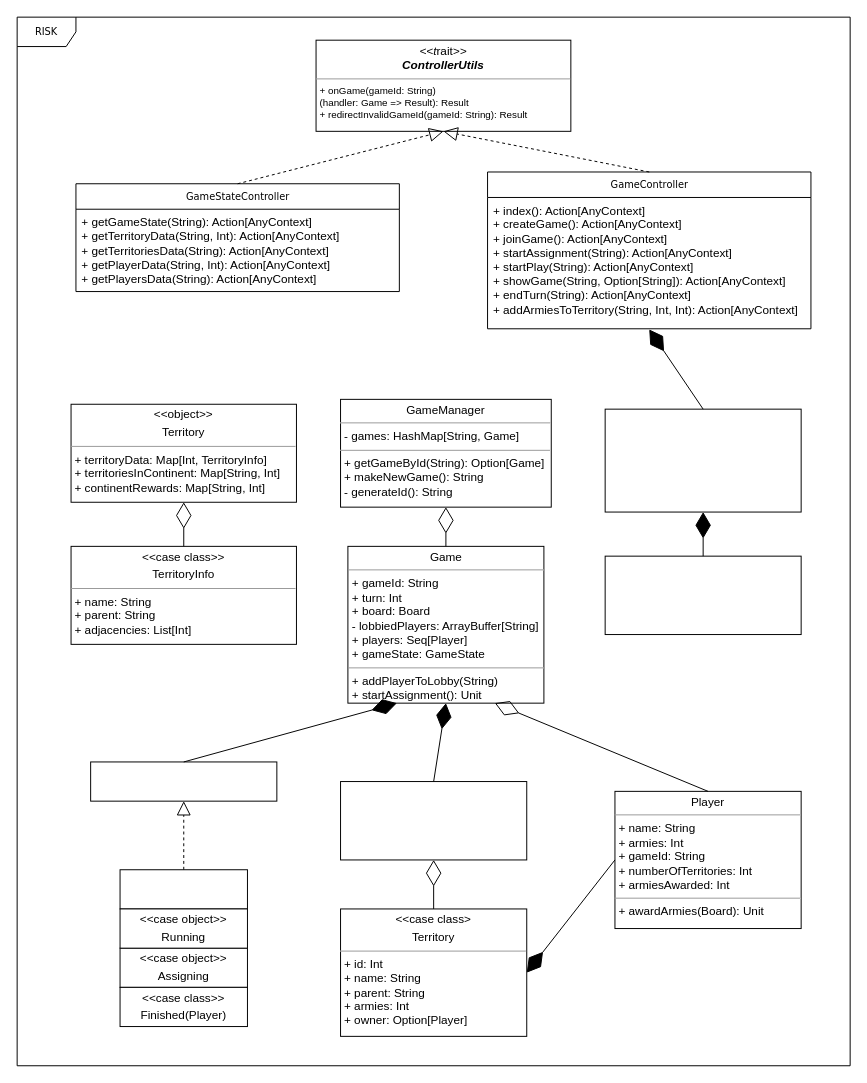
The diagram is 867 pixels wide and 1083 high, and some of its shapes have lost their labels. Here are the shapes that lost their labels. From the top down, the centre of each, then its label:
At (702,460): "<<object>> JoinForm + form: Form[JoinRequest] + validateName(String): Boolean".
At (702,595): "<<case class>> JoinRequest + id: String + playerName: String".
At (183,781): "<<trait >> GameState".
At (433,820): "Board + territories: Map[Int, Territory] + setArmyCount(Int, Int): Unit".
At (183,889): "<<case object>> Lobbying".
